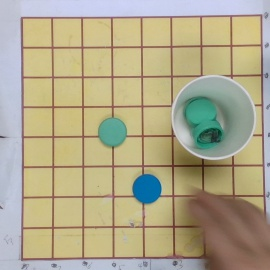blue: (132, 173, 163, 204)
cup_green: (170, 74, 257, 163), (99, 117, 127, 147)
